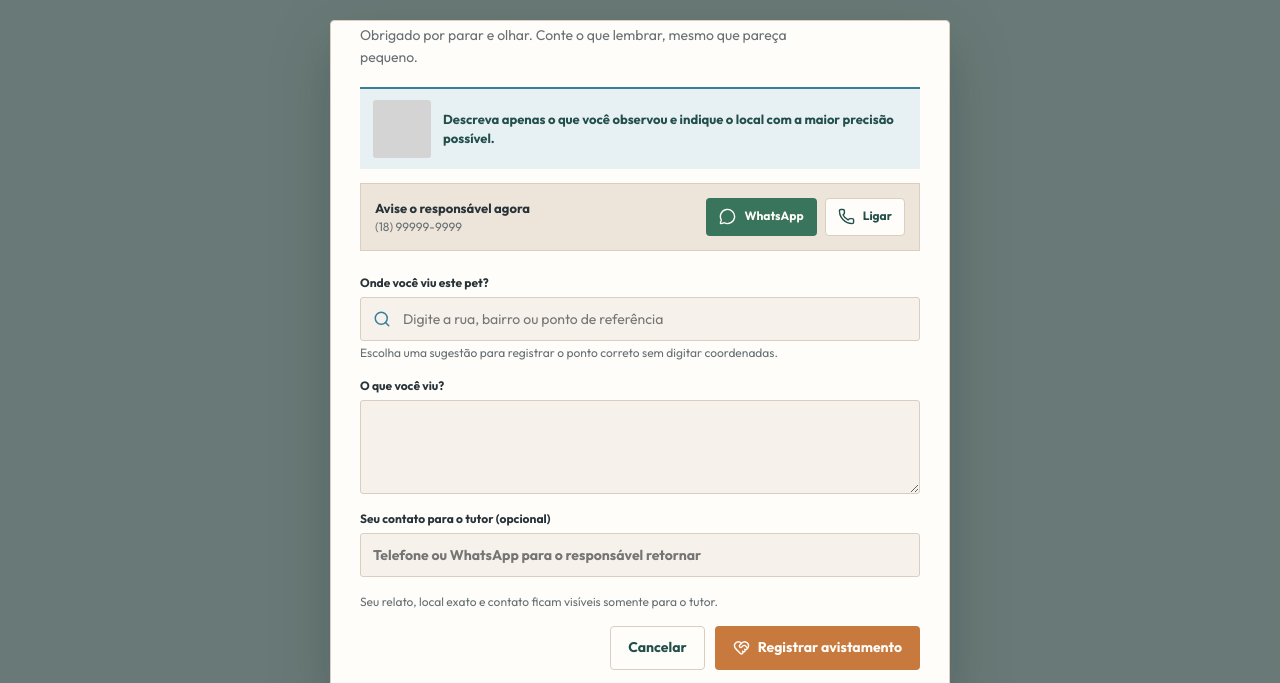
Test: SightingForm › leva o foco para a localização quando nenhuma sugestão foi escolhida
(page scrolled)
Click the button "Registrar avistamento" at [817, 648], box [715, 626, 920, 670]
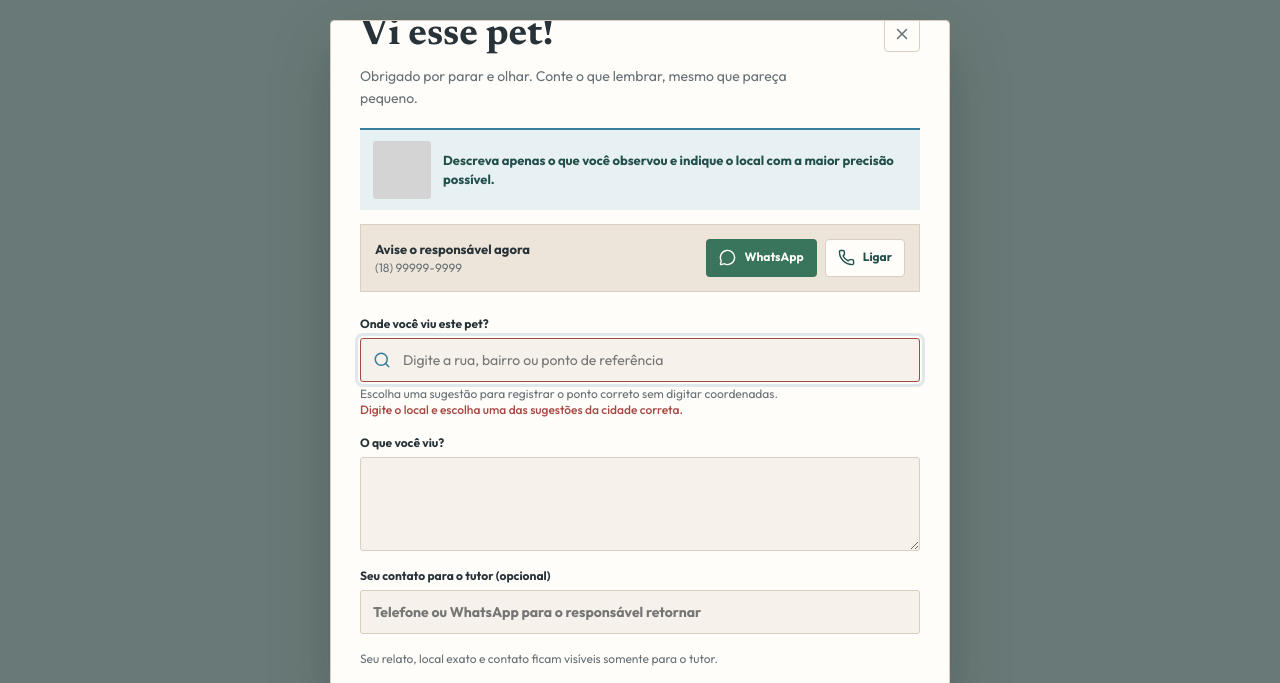
Expected: the text "Digite o local e escolha uma das sugestões da cidade correta." is shown, [360, 402, 683, 417]
